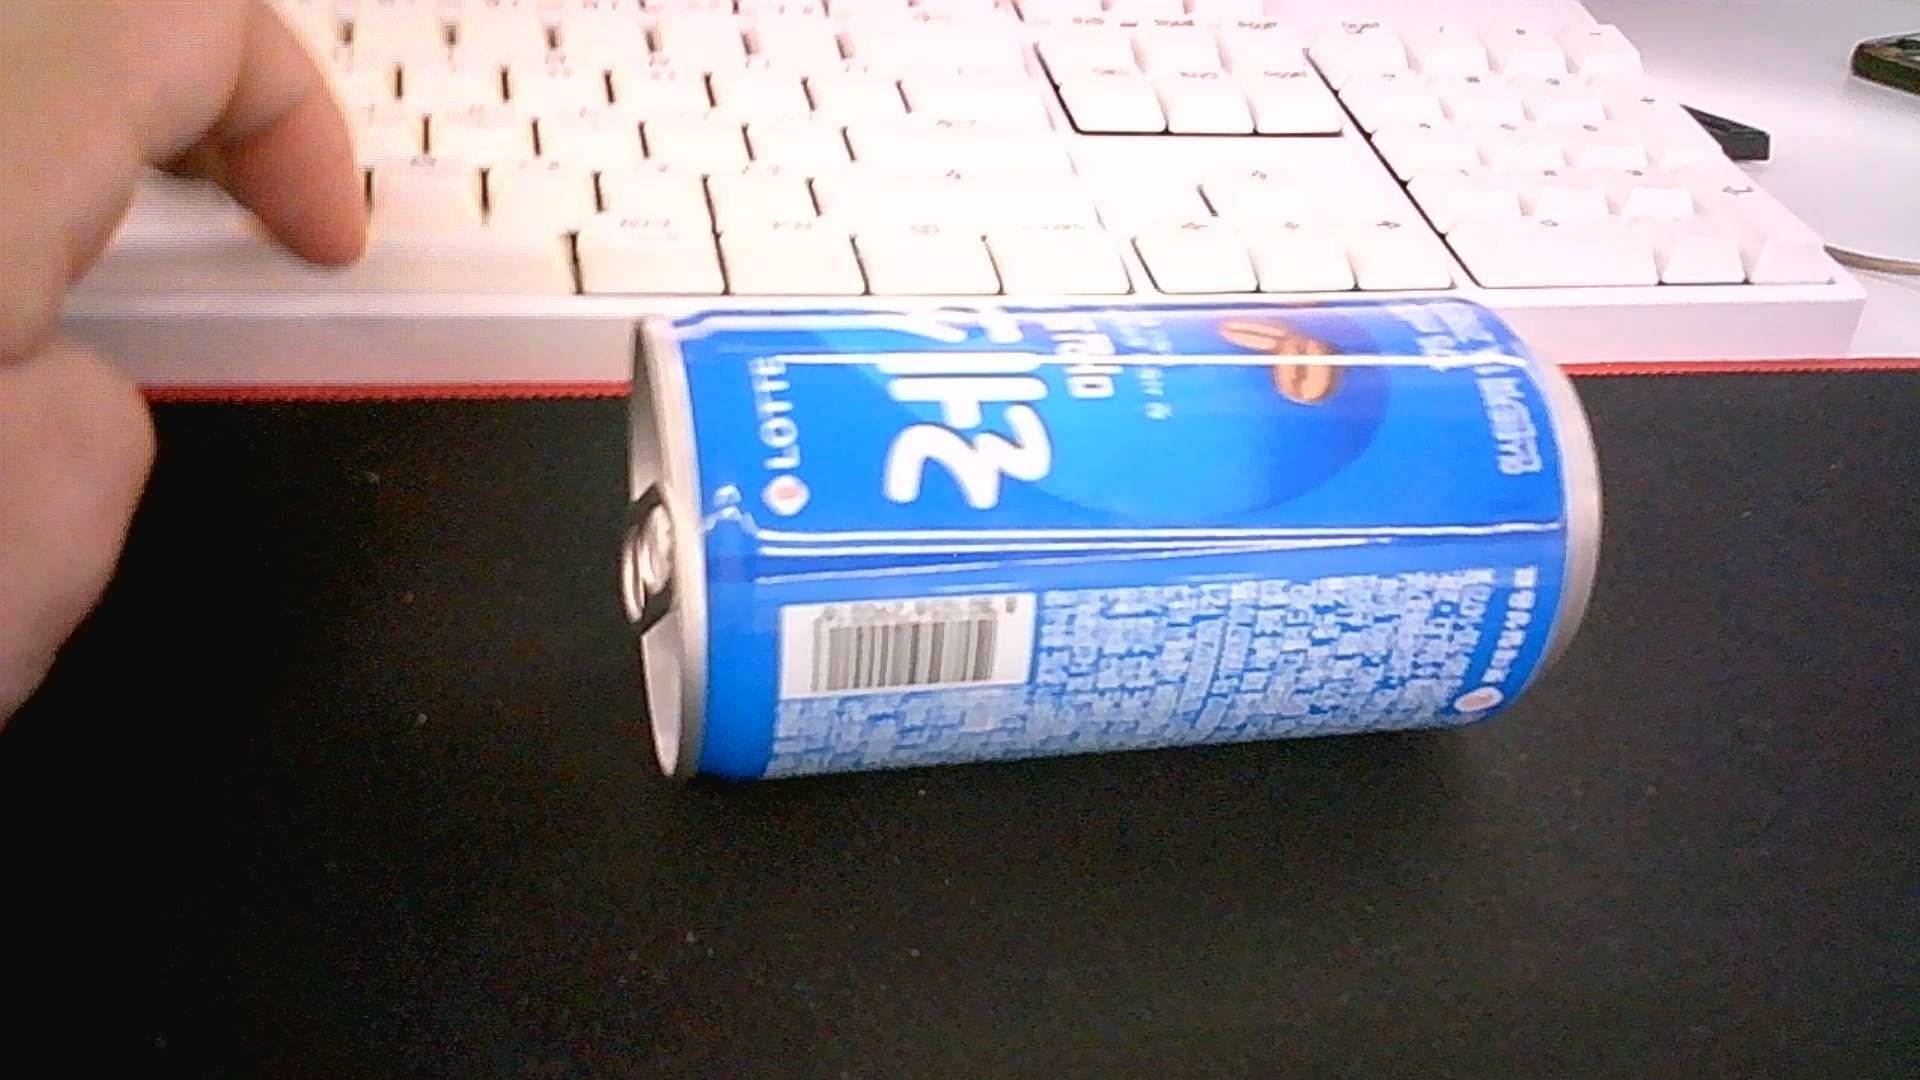letsbe: (613, 297, 1602, 777)
